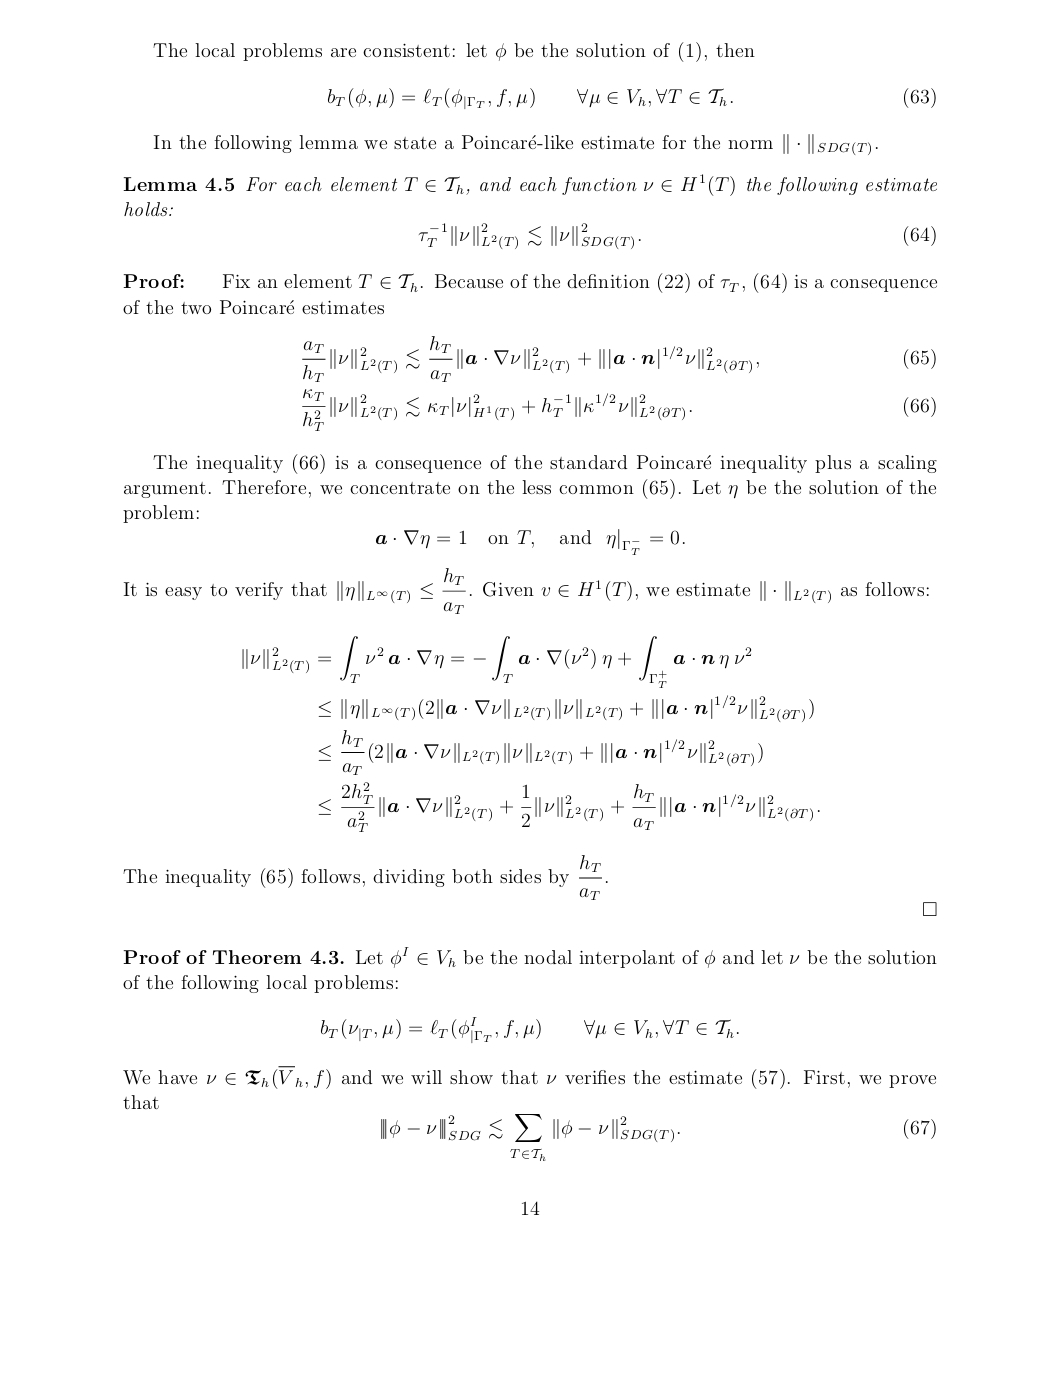formula: (302, 335, 935, 382), (302, 388, 935, 431), (242, 635, 751, 688), (318, 781, 819, 832), (381, 1114, 935, 1160), (318, 729, 762, 775), (418, 222, 935, 250), (318, 694, 812, 723), (328, 87, 935, 110), (321, 1016, 738, 1044), (376, 528, 684, 555)
